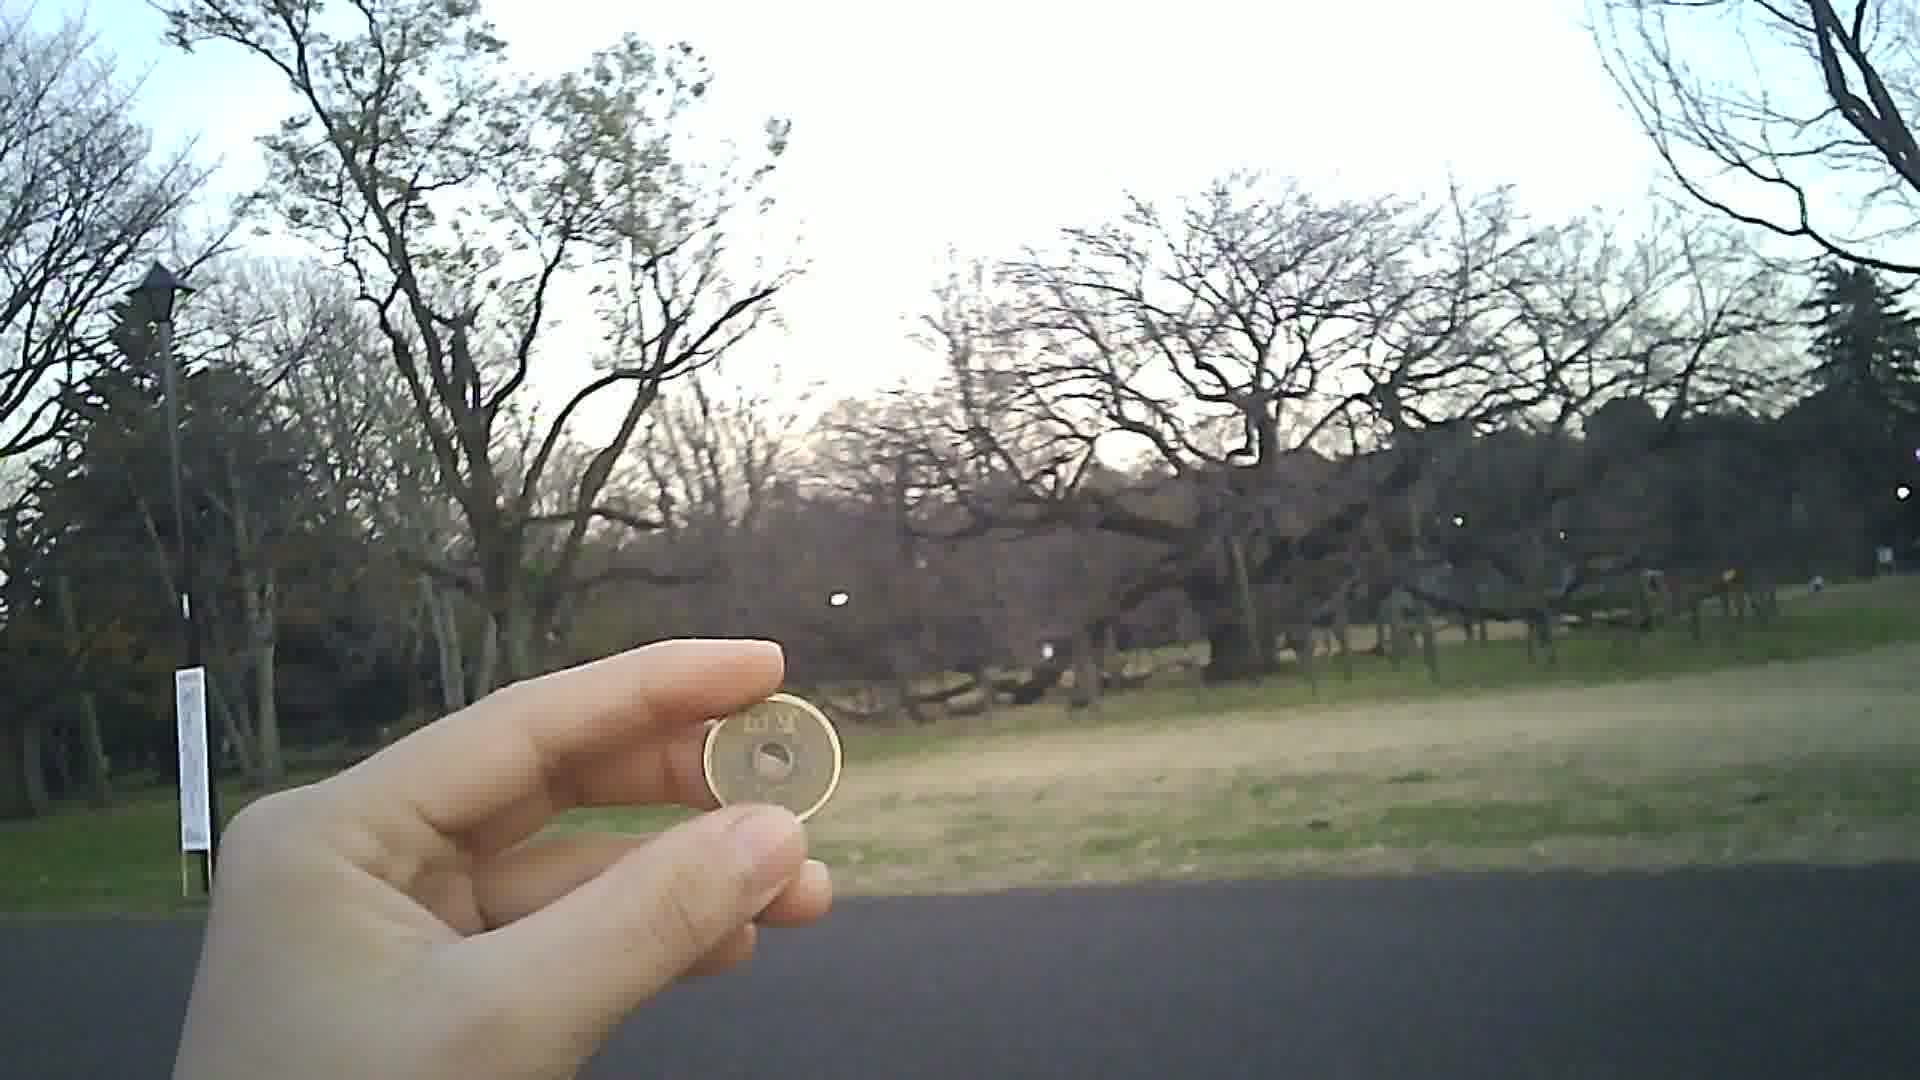5 Yen: (698, 688, 840, 837)
